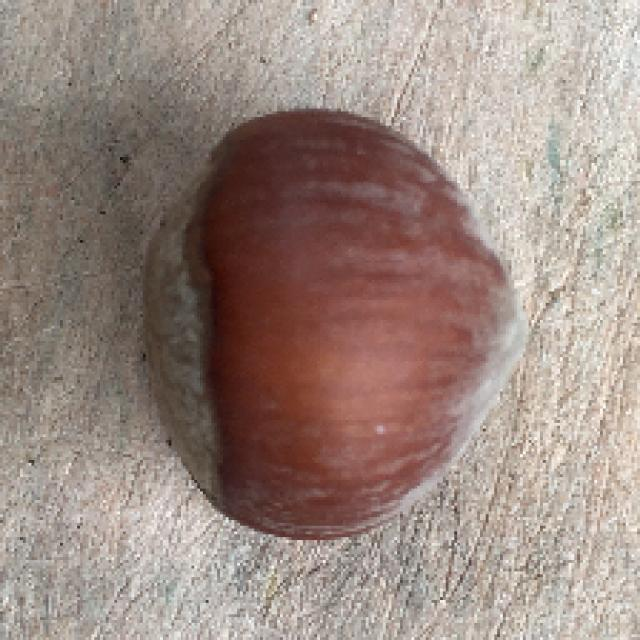qualityHazelnut: (138, 105, 533, 543)
